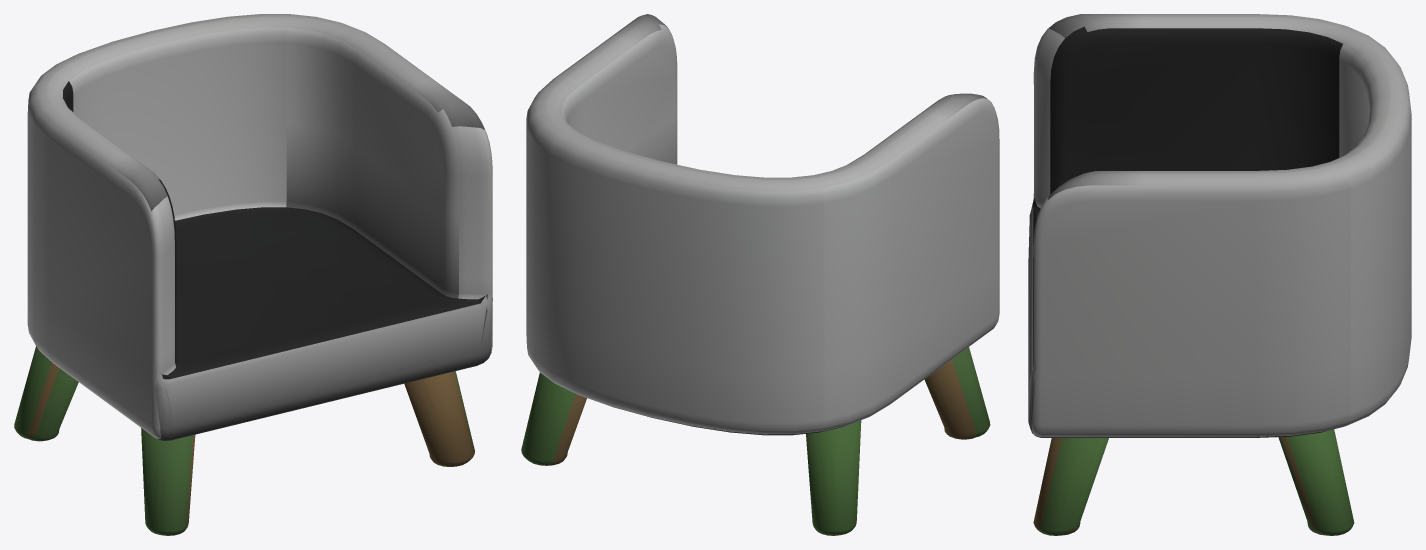
The model's file is LoungeChair_Purple.fbx.
3 views of the same model, side by side, from view 1: azimuth 30°, elevation 25°; view 2: azimuth 150°, elevation 25°; view 3: azimuth 270°, elevation 25° (orthographic). The views are drawn at different scales.
Parts seen in each view (by area): view 1: loungeChair_.001; view 2: loungeChair_.001; view 3: loungeChair_.001.
Part boxes in pixels (x1,y1,x2,y2): loungeChair_.001: (14, 14, 492, 535); loungeChair_.001: (521, 14, 999, 535); loungeChair_.001: (1028, 14, 1411, 535).
Bounding box in the file's own units: 83.22 × 81.02 × 77.12.
